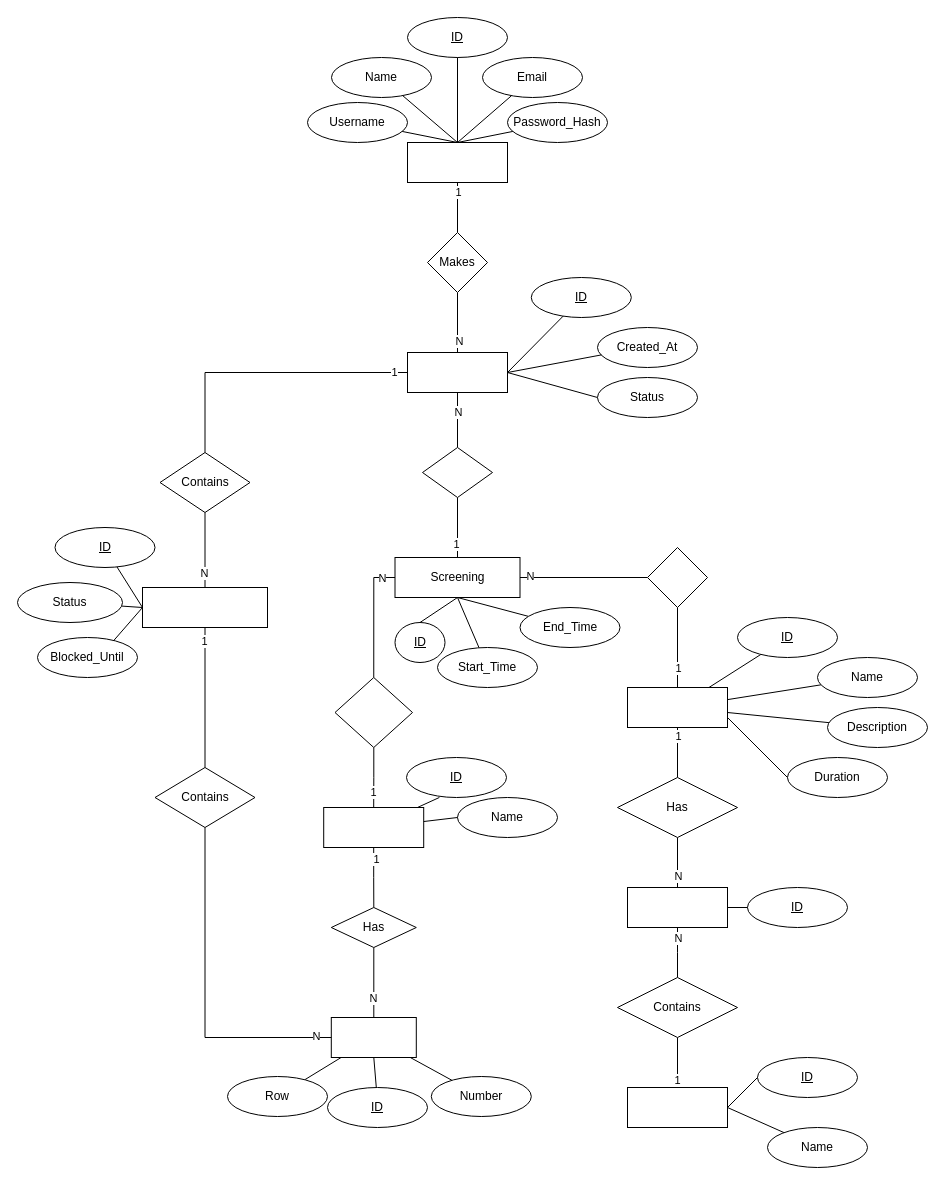
This 945x1185 diagram has some shape labels left out. The shapes that lost their labels are listed below. From the top down, each one's centre as x and y in pixels, then its label:
At point (457, 162): "Client".
At point (457, 372): "Reservation".
At point (457, 472): "Belongs".
At point (677, 577): "Show".
At point (205, 607): "Reservation_Detail".
At point (373, 712): "Take place in".
At point (677, 707): "Movie".
At point (373, 827): "Auditorium".
At point (677, 907): "Movie_Category".
At point (373, 1037): "Seat".
At point (677, 1107): "Category".
